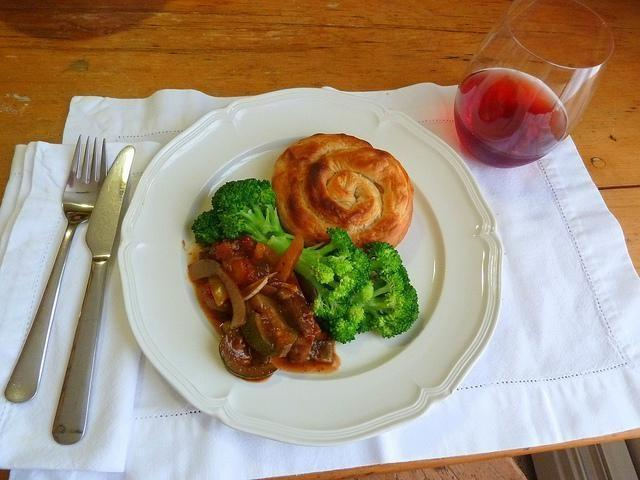glass-normal: (452, 1, 612, 170)
